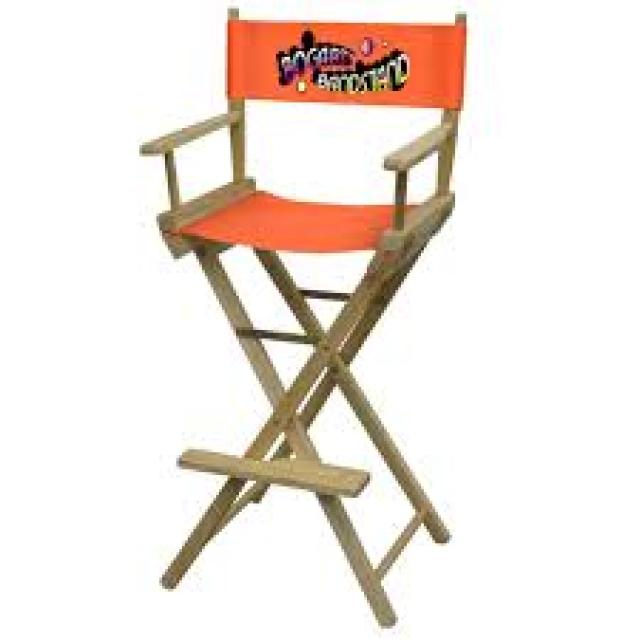chair: (135, 9, 472, 628)
